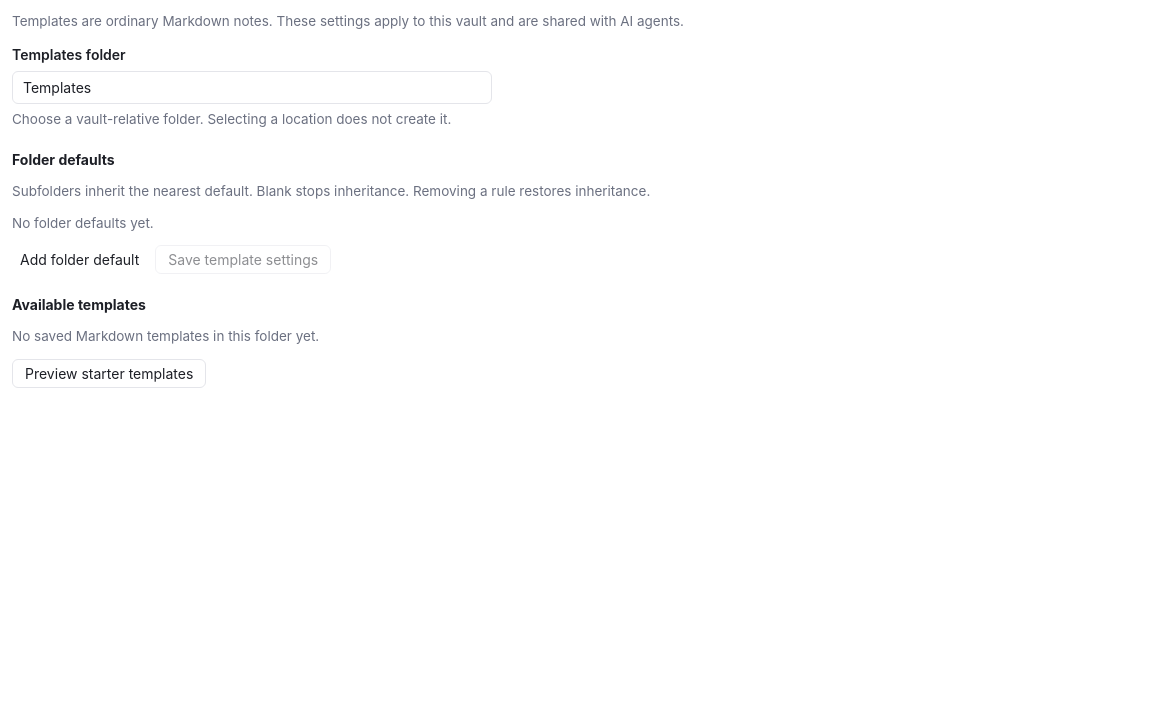
Test: starter preview cancels without writes and installation keeps existing files
What coordinates should you click on to do the following:
click the button "Preview starter templates"
I would click on:
 (109, 373)
Its box is x1=12 y1=359 x2=206 y2=388.
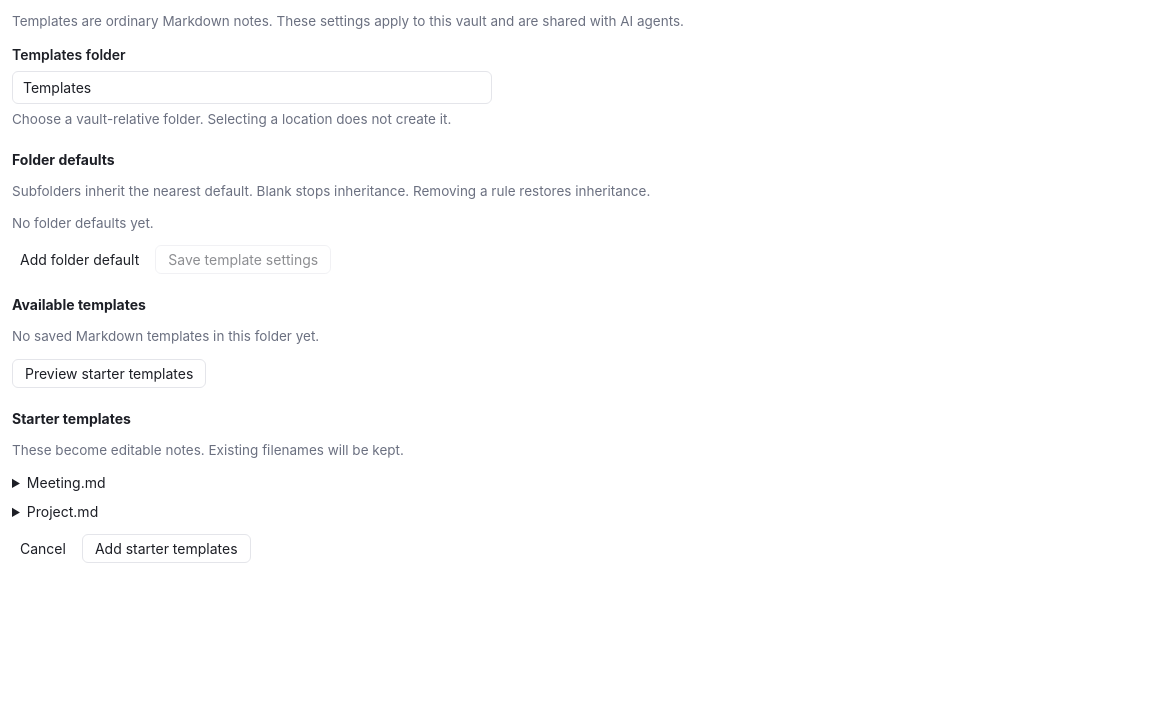
What coordinates should you click on to do the following:
click the heading "Meeting.md"
I would click on:
 (66, 483)
Its box is x1=27 y1=474 x2=106 y2=491.
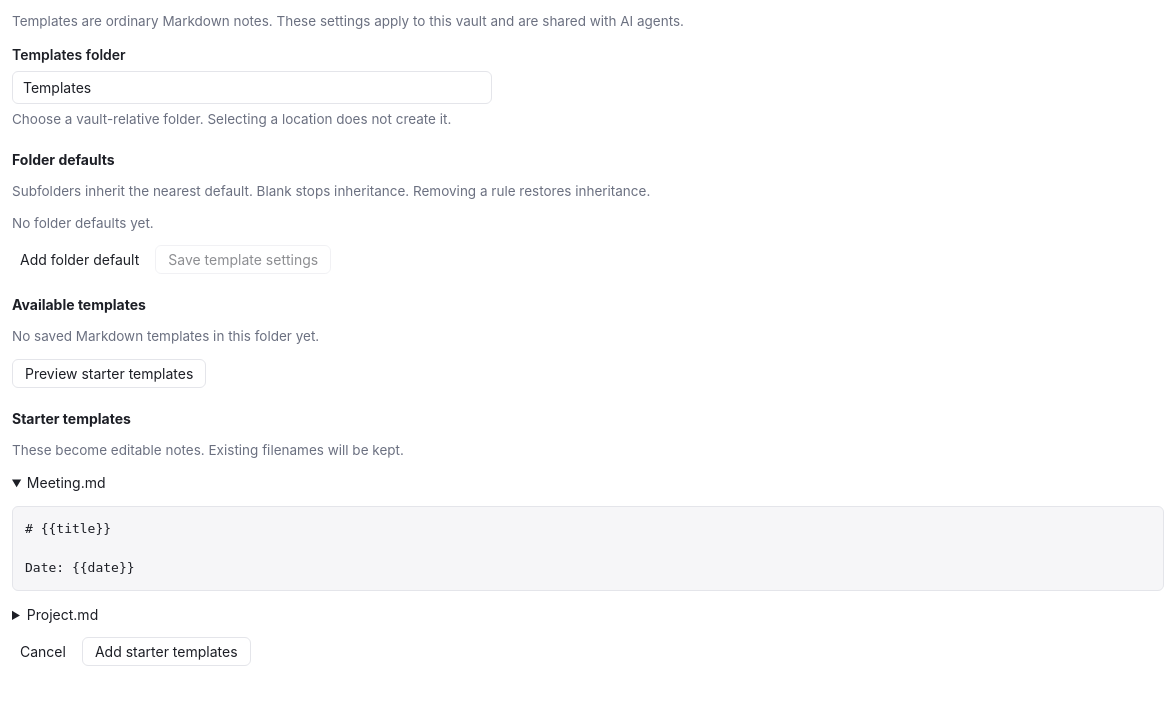
Expected: the text "# {{title}} Date: {{date}}" is shown, x1=12 y1=506 x2=1163 y2=591
What coordinates should you click on to do the following:
click the button "Cancel"
I would click on:
 (43, 651)
Its box is x1=12 y1=639 x2=74 y2=664.
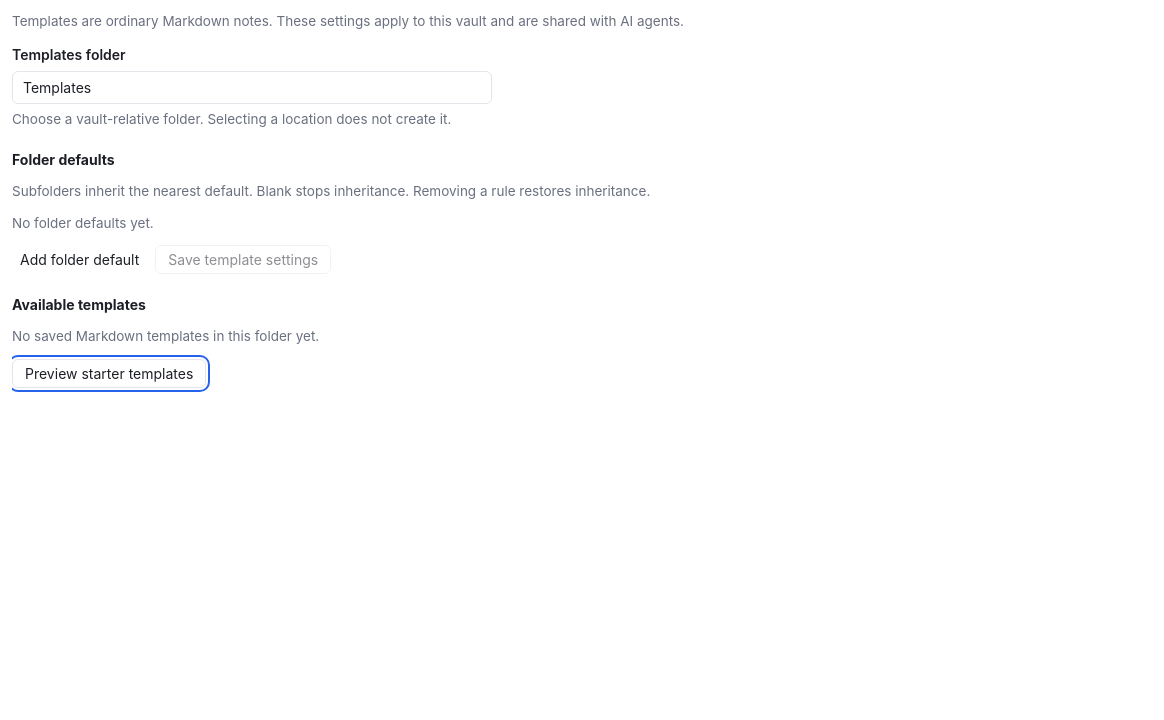
What coordinates should you click on to do the following:
click the button "Preview starter templates"
I would click on:
 (109, 373)
Its box is x1=12 y1=359 x2=206 y2=388.
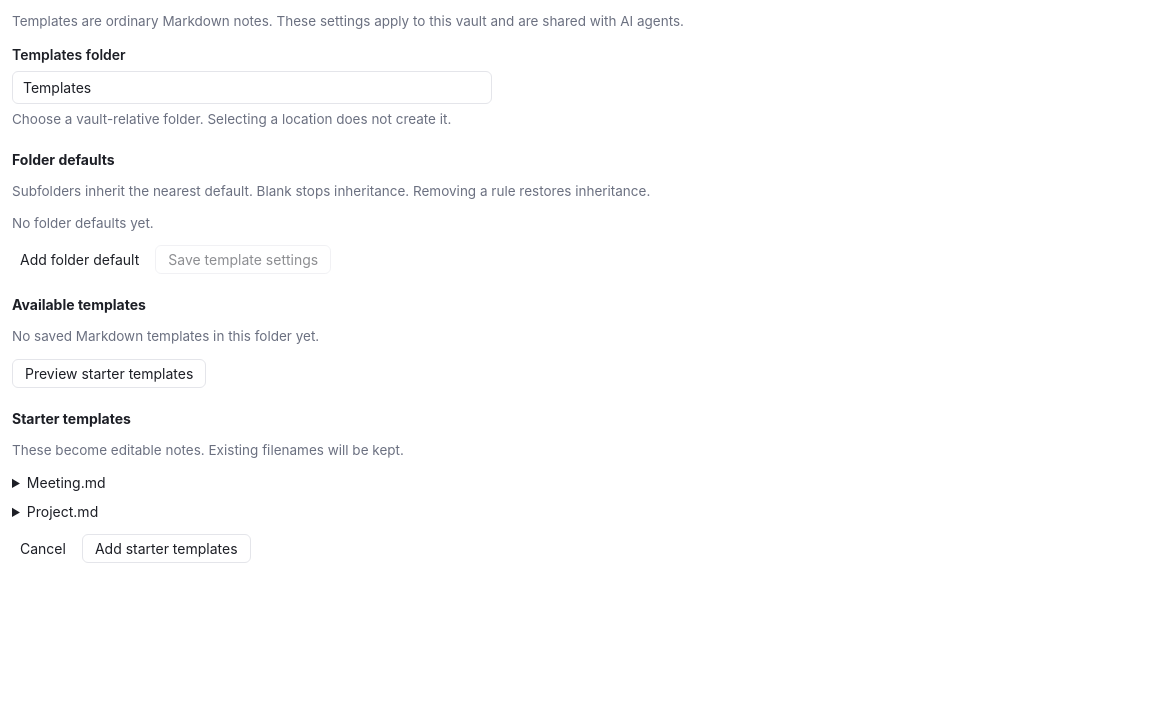
What coordinates should you click on to do the following:
click the button "Add starter templates"
I would click on:
 (166, 549)
Its box is x1=82 y1=534 x2=250 y2=563.
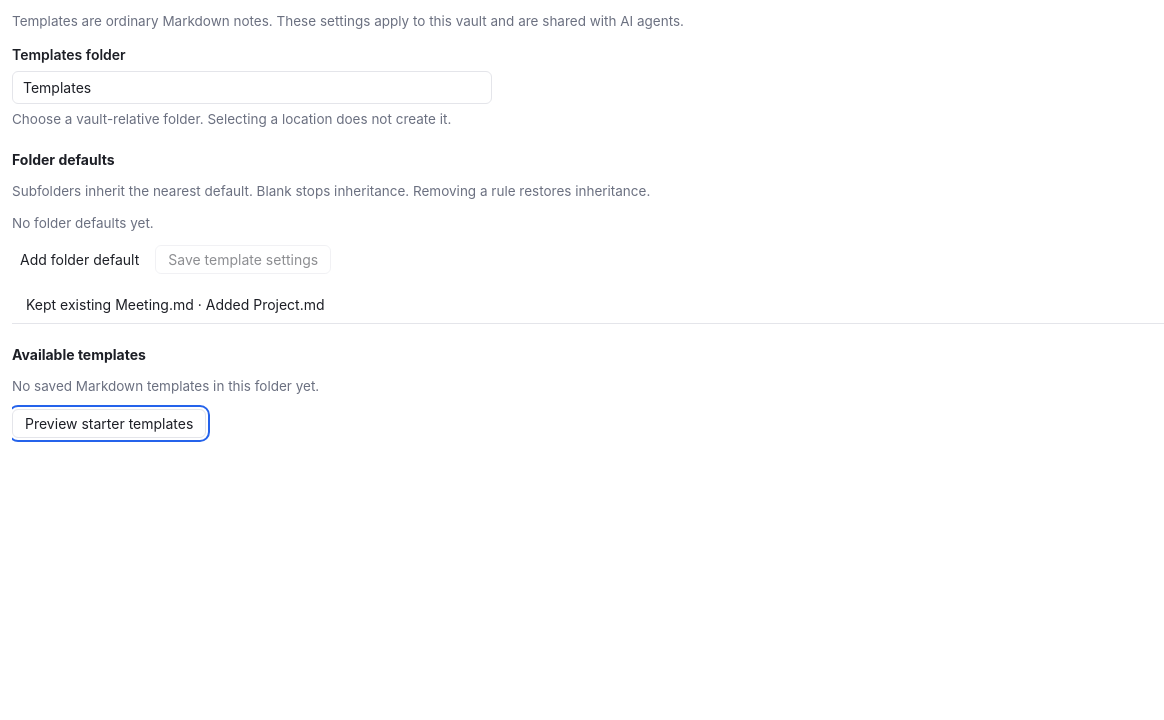
Expected: the text "Kept existing Meeting.md · Added Project.md" is shown, x1=12 y1=286 x2=1163 y2=324
